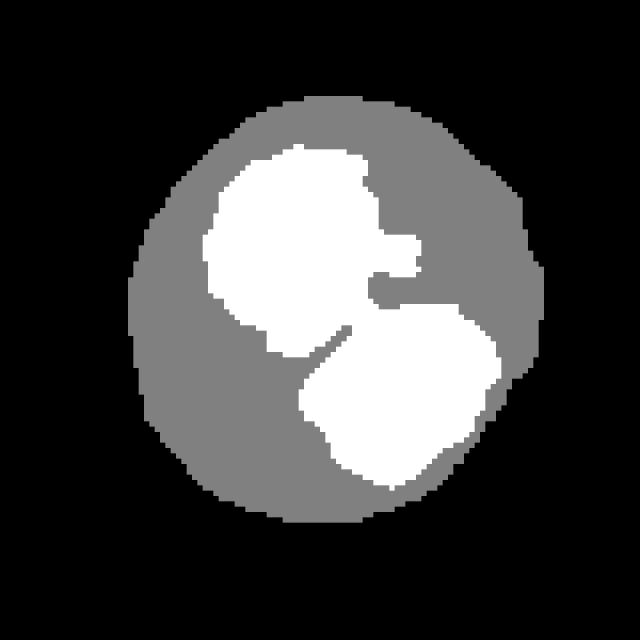WBC: (106, 80, 586, 549)
